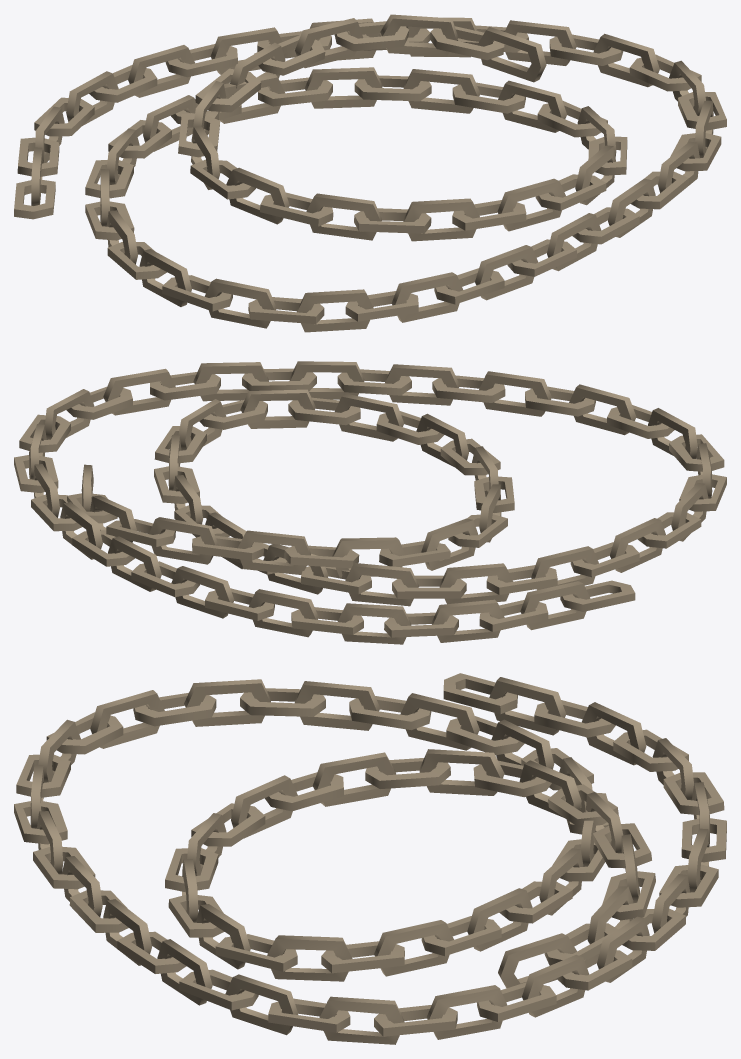
The model's file is Chain_Coil.gltf.
3 renders of one model, top to bottom at view 1: azimuth 30°, elevation 25°; view 2: azimuth 150°, elevation 25°; view 3: azimuth 270°, elevation 25°, orthographic. The views are drawn at different scales.
Visible parts, largest first — view 1: Chain_Coil; view 2: Chain_Coil; view 3: Chain_Coil.
Part boxes in pixels (left/top/right/bottom): Chain_Coil: left=14, top=14, right=726, bottom=332; Chain_Coil: left=14, top=361, right=726, bottom=644; Chain_Coil: left=14, top=673, right=726, bottom=1044.
Bounding box in the file's own units: 1.07 × 0.0872 × 0.9077.
